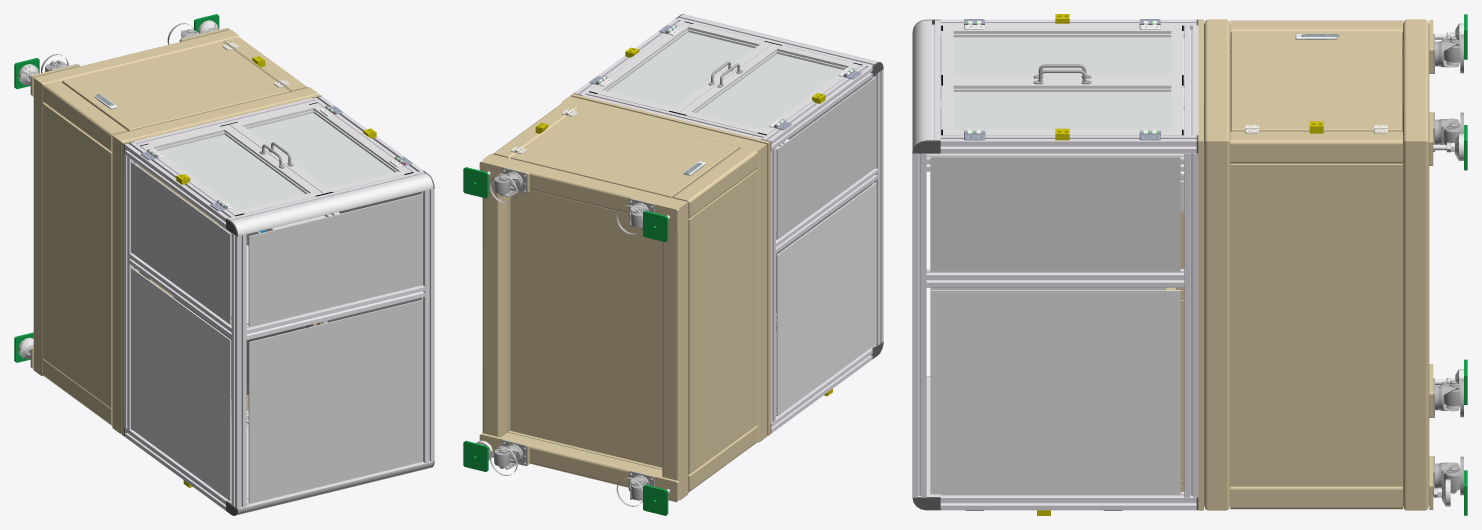
Rendered from SIMPLE_WHOLE.glb.
3 views of the same model, side by side, from view 1: azimuth 30°, elevation 25°; view 2: azimuth 150°, elevation 25°; view 3: azimuth 270°, elevation 25° (orthographic). The views are drawn at different scales.
Visible parts, largest first — view 1: 솔리드1 (×2); view 2: 솔리드1; view 3: 솔리드1 (×2).
Part boxes in pixels (x1=…): 솔리드1 (×2): x1=14, y1=14, x2=434, y2=515; 솔리드1: x1=463, y1=14, x2=883, y2=515; 솔리드1 (×2): x1=912, y1=14, x2=1467, y2=515.
Size of the model in its own units: 0.845 by 1.23 by 1.58.
